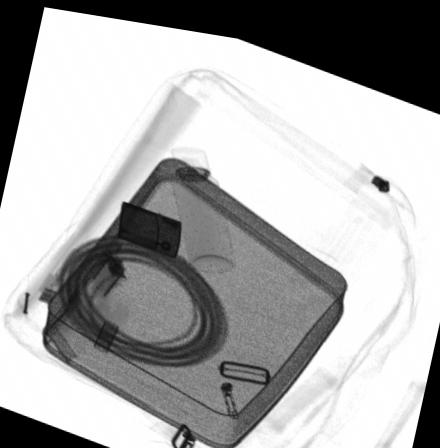Lighter: (115, 194, 181, 252)
Sprayer: (169, 140, 236, 265)
